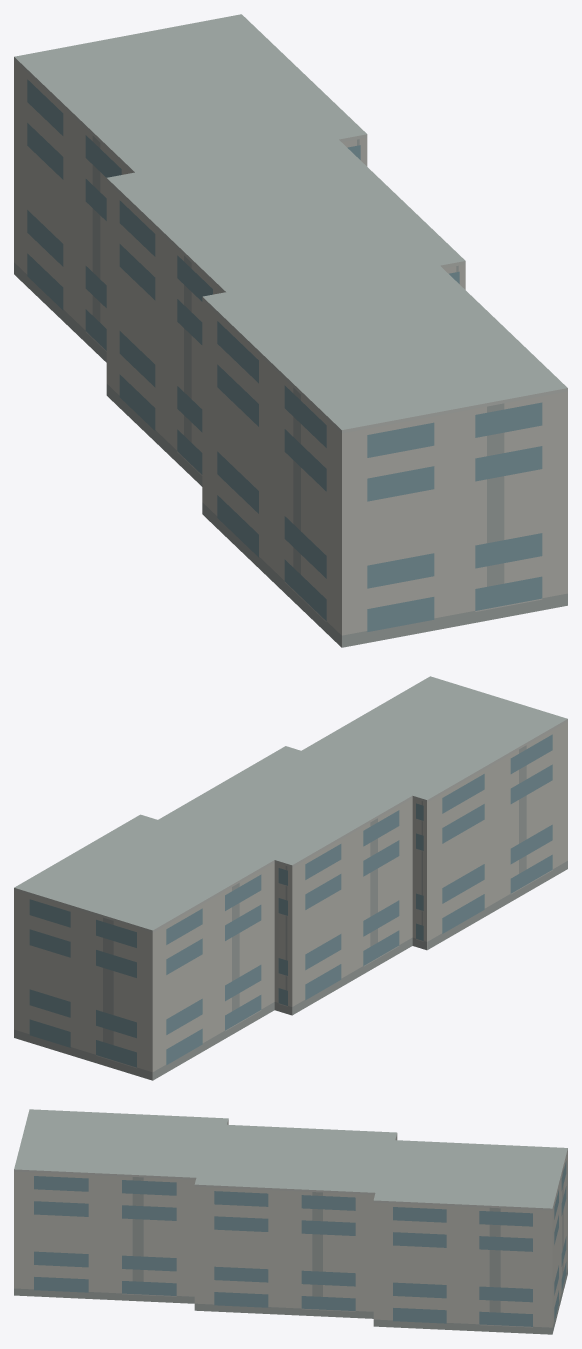
File: residential-eb94bd67-6406-47ed-bfe9-e9a0cf1cf34f.glb
The picture shows the model from 3 angles, top to bottom: view 1: azimuth 30°, elevation 25°; view 2: azimuth 150°, elevation 25°; view 3: azimuth 270°, elevation 25°; orthographic projection. The views are drawn at different scales.
Parts seen in each view (by area): view 1: residential-eb94bd67-6406-47ed-bfe9-e9a0cf1cf34f.tmp; view 2: residential-eb94bd67-6406-47ed-bfe9-e9a0cf1cf34f.tmp; view 3: residential-eb94bd67-6406-47ed-bfe9-e9a0cf1cf34f.tmp.
Part boxes in pixels (bbox=[...]): residential-eb94bd67-6406-47ed-bfe9-e9a0cf1cf34f.tmp: bbox=[14, 14, 567, 647]; residential-eb94bd67-6406-47ed-bfe9-e9a0cf1cf34f.tmp: bbox=[14, 676, 567, 1080]; residential-eb94bd67-6406-47ed-bfe9-e9a0cf1cf34f.tmp: bbox=[14, 1109, 567, 1334].
Bounding box in the file's own units: 25.77 × 15.25 × 60.73.
